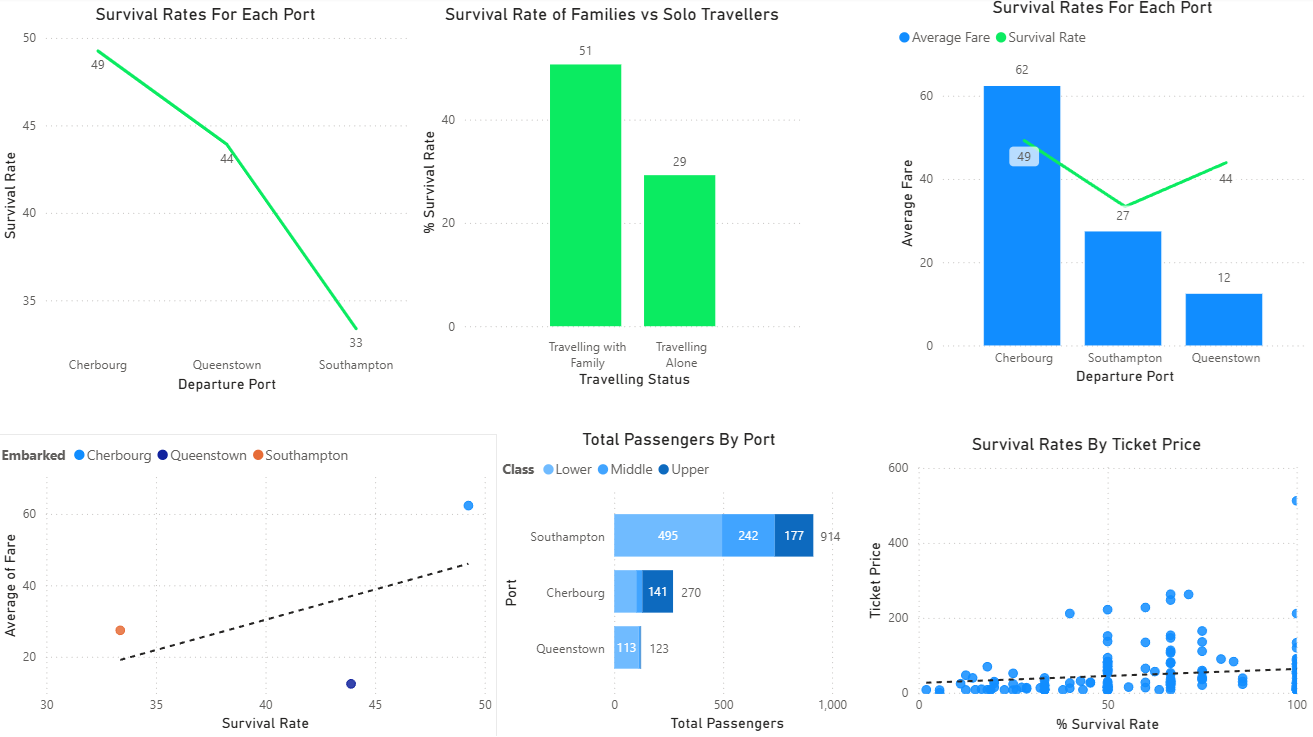

The dashboard page shown, as its layout file describes it:
{"tool":"powerbi","page":{"name":"Port Analytics","canvas":[1280,720],"ordinal":4},"visuals":[{"type":"lineChart","title":"Survival Rates For Each Port","fields":{"Y":["gold fact_table.Survival Rate"],"Category":["gold fact_table.Embarked"]},"box":[0,6.8,407.5,382.2],"z":0},{"type":"lineStackedColumnComboChart","title":"Survival Rates For Each Port","fields":{"Category":["gold fact_table.Embarked"],"Y2":["gold fact_table.Survival Rate"],"Y":["Avg(gold fact_table.Fare)"]},"box":[872.5,0,407.5,382.2],"z":1000},{"type":"scatterChart","fields":{"X":["gold fact_table.Survival Rate"],"Series":["gold fact_table.Embarked"],"Y":["Avg(gold fact_table.Fare)"]},"box":[0,425,487.3,294.7],"z":2000},{"type":"scatterChart","title":"Survival Rates By Ticket Price","fields":{"X":["gold fact_table.Survival Rate"],"Y":["gold fact_table.Fare"]},"box":[841.3,425,438.7,294.7],"z":3000},{"type":"columnChart","title":"Survival Rate of Families vs Solo Travellers","fields":{"Y":["gold fact_table.Survival Rate"],"Category":["gold fact_table.Travelling Status"]},"box":[407.5,6.8,383.2,377.4],"z":4000},{"type":"barChart","title":"Total Passengers By Port","fields":{"Category":["gold fact_table.Embarked"],"Series":["gold fact_table.Class"],"Y":["CountNonNull(gold fact_table.PassengerID)"]},"box":[487.3,420.2,354,299.6],"z":4001}]}

Visuals, with their boxes in screenshot pixels (x1, y1, x2, y2), scaled from the page's 1280x720 canvas onto the 1313x737 screenshot:
"Survival Rates For Each Port" lineChart: (left=0, top=7, right=418, bottom=398)
"Survival Rates For Each Port" lineStackedColumnComboChart: (left=895, top=0, right=1312, bottom=391)
scatterChart - gold fact_table.Survival Rate x gold fact_table.Embarked: (left=0, top=435, right=500, bottom=736)
"Survival Rates By Ticket Price" scatterChart: (left=863, top=435, right=1312, bottom=736)
"Survival Rate of Families vs Solo Travellers" columnChart: (left=418, top=7, right=811, bottom=393)
"Total Passengers By Port" barChart: (left=500, top=430, right=863, bottom=736)
